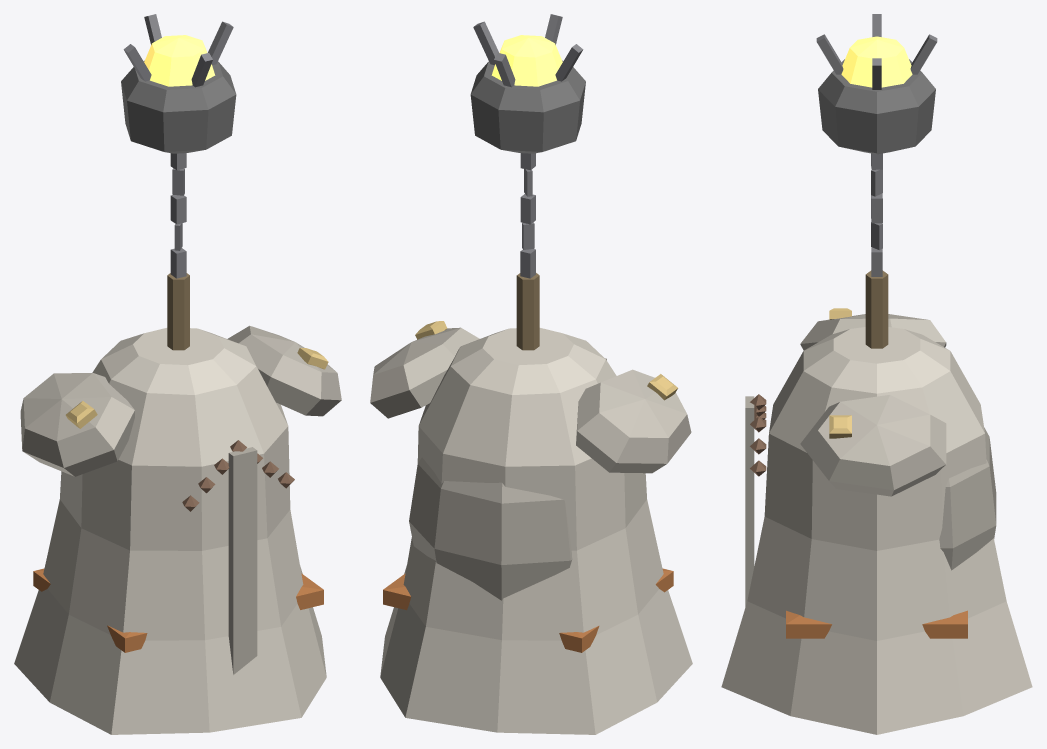
File: pyre_zealot.glb
The picture shows the model from 3 angles, left to right: view 1: azimuth 30°, elevation 25°; view 2: azimuth 150°, elevation 25°; view 3: azimuth 270°, elevation 25°; orthographic projection.
Parts seen in each view (by area): view 1: Torso, Weapon, PauldronL, PauldronR; view 2: Torso, Weapon, Head, PauldronL, PauldronR; view 3: Torso, Weapon, PauldronR, Head, PauldronL.
Part boxes in pixels (x1,y1,x2,y2): Torso: [14, 328, 326, 734]; Weapon: [121, 14, 236, 350]; PauldronL: [20, 373, 134, 476]; PauldronR: [227, 325, 341, 416]; Torso: [380, 328, 692, 734]; Weapon: [470, 14, 585, 350]; Head: [409, 457, 572, 600]; PauldronL: [576, 369, 691, 473]; PauldronR: [370, 321, 479, 418]; Torso: [721, 327, 1032, 734]; Weapon: [816, 14, 937, 348]; PauldronR: [800, 395, 946, 496]; Head: [939, 427, 996, 570]; PauldronL: [800, 308, 946, 350].
Bounding box in the file's own units: 0.7425 × 1.53 × 0.6848.
